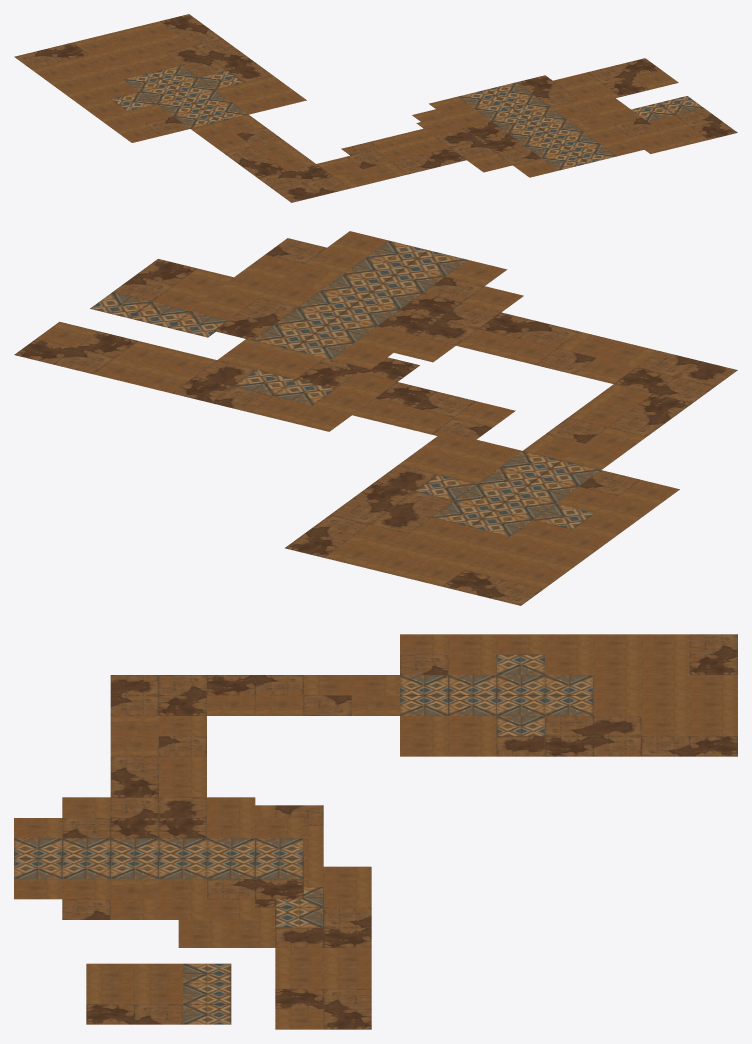
The model's file is Pyramid_Grave5F_all.FBX.
The picture shows the model from 3 angles, top to bottom: view 1: azimuth 30°, elevation 25°; view 2: azimuth 150°, elevation 25°; view 3: azimuth 270°, elevation 25°; orthographic projection. The views are drawn at different scales.
Parts seen in each view (by area): view 1: Pyramid_Grave5F05, Pyramid_Grave5F04, Pyramid_Grave5F03, Pyramid_Grave5F00, Pyramid_Grave5F002; view 2: Pyramid_Grave5F05, Pyramid_Grave5F04, Pyramid_Grave5F02, Pyramid_Grave5F00, Pyramid_Grave5F03, Pyramid_Grave5F002; view 3: Pyramid_Grave5F05, Pyramid_Grave5F04, Pyramid_Grave5F02, Pyramid_Grave5F03, Pyramid_Grave5F00, Pyramid_Grave5F002.
Boxes of the visible parts, x1=… form: Pyramid_Grave5F05: x1=14, y1=14, x2=466, y2=202; Pyramid_Grave5F04: x1=416, y1=75, x2=658, y2=177; Pyramid_Grave5F03: x1=630, y1=96, x2=737, y2=153; Pyramid_Grave5F00: x1=553, y1=58, x2=678, y2=97; Pyramid_Grave5F002: x1=341, y1=128, x2=432, y2=155; Pyramid_Grave5F05: x1=285, y1=312, x2=737, y2=605; Pyramid_Grave5F04: x1=197, y1=231, x2=523, y2=369; Pyramid_Grave5F02: x1=172, y1=339, x2=419, y2=431; Pyramid_Grave5F00: x1=14, y1=321, x2=216, y2=393; Pyramid_Grave5F03: x1=90, y1=259, x2=235, y2=337; Pyramid_Grave5F002: x1=352, y1=382, x2=515, y2=439; Pyramid_Grave5F05: x1=110, y1=634, x2=737, y2=797; Pyramid_Grave5F04: x1=14, y1=797, x2=303, y2=919; Pyramid_Grave5F02: x1=178, y1=866, x2=371, y2=947; Pyramid_Grave5F03: x1=86, y1=963, x2=231, y2=1024; Pyramid_Grave5F00: x1=275, y1=948, x2=371, y2=1029; Pyramid_Grave5F002: x1=255, y1=805, x2=323, y2=866.
Size of the model in its own units: 68.96 by 4 by 60.
